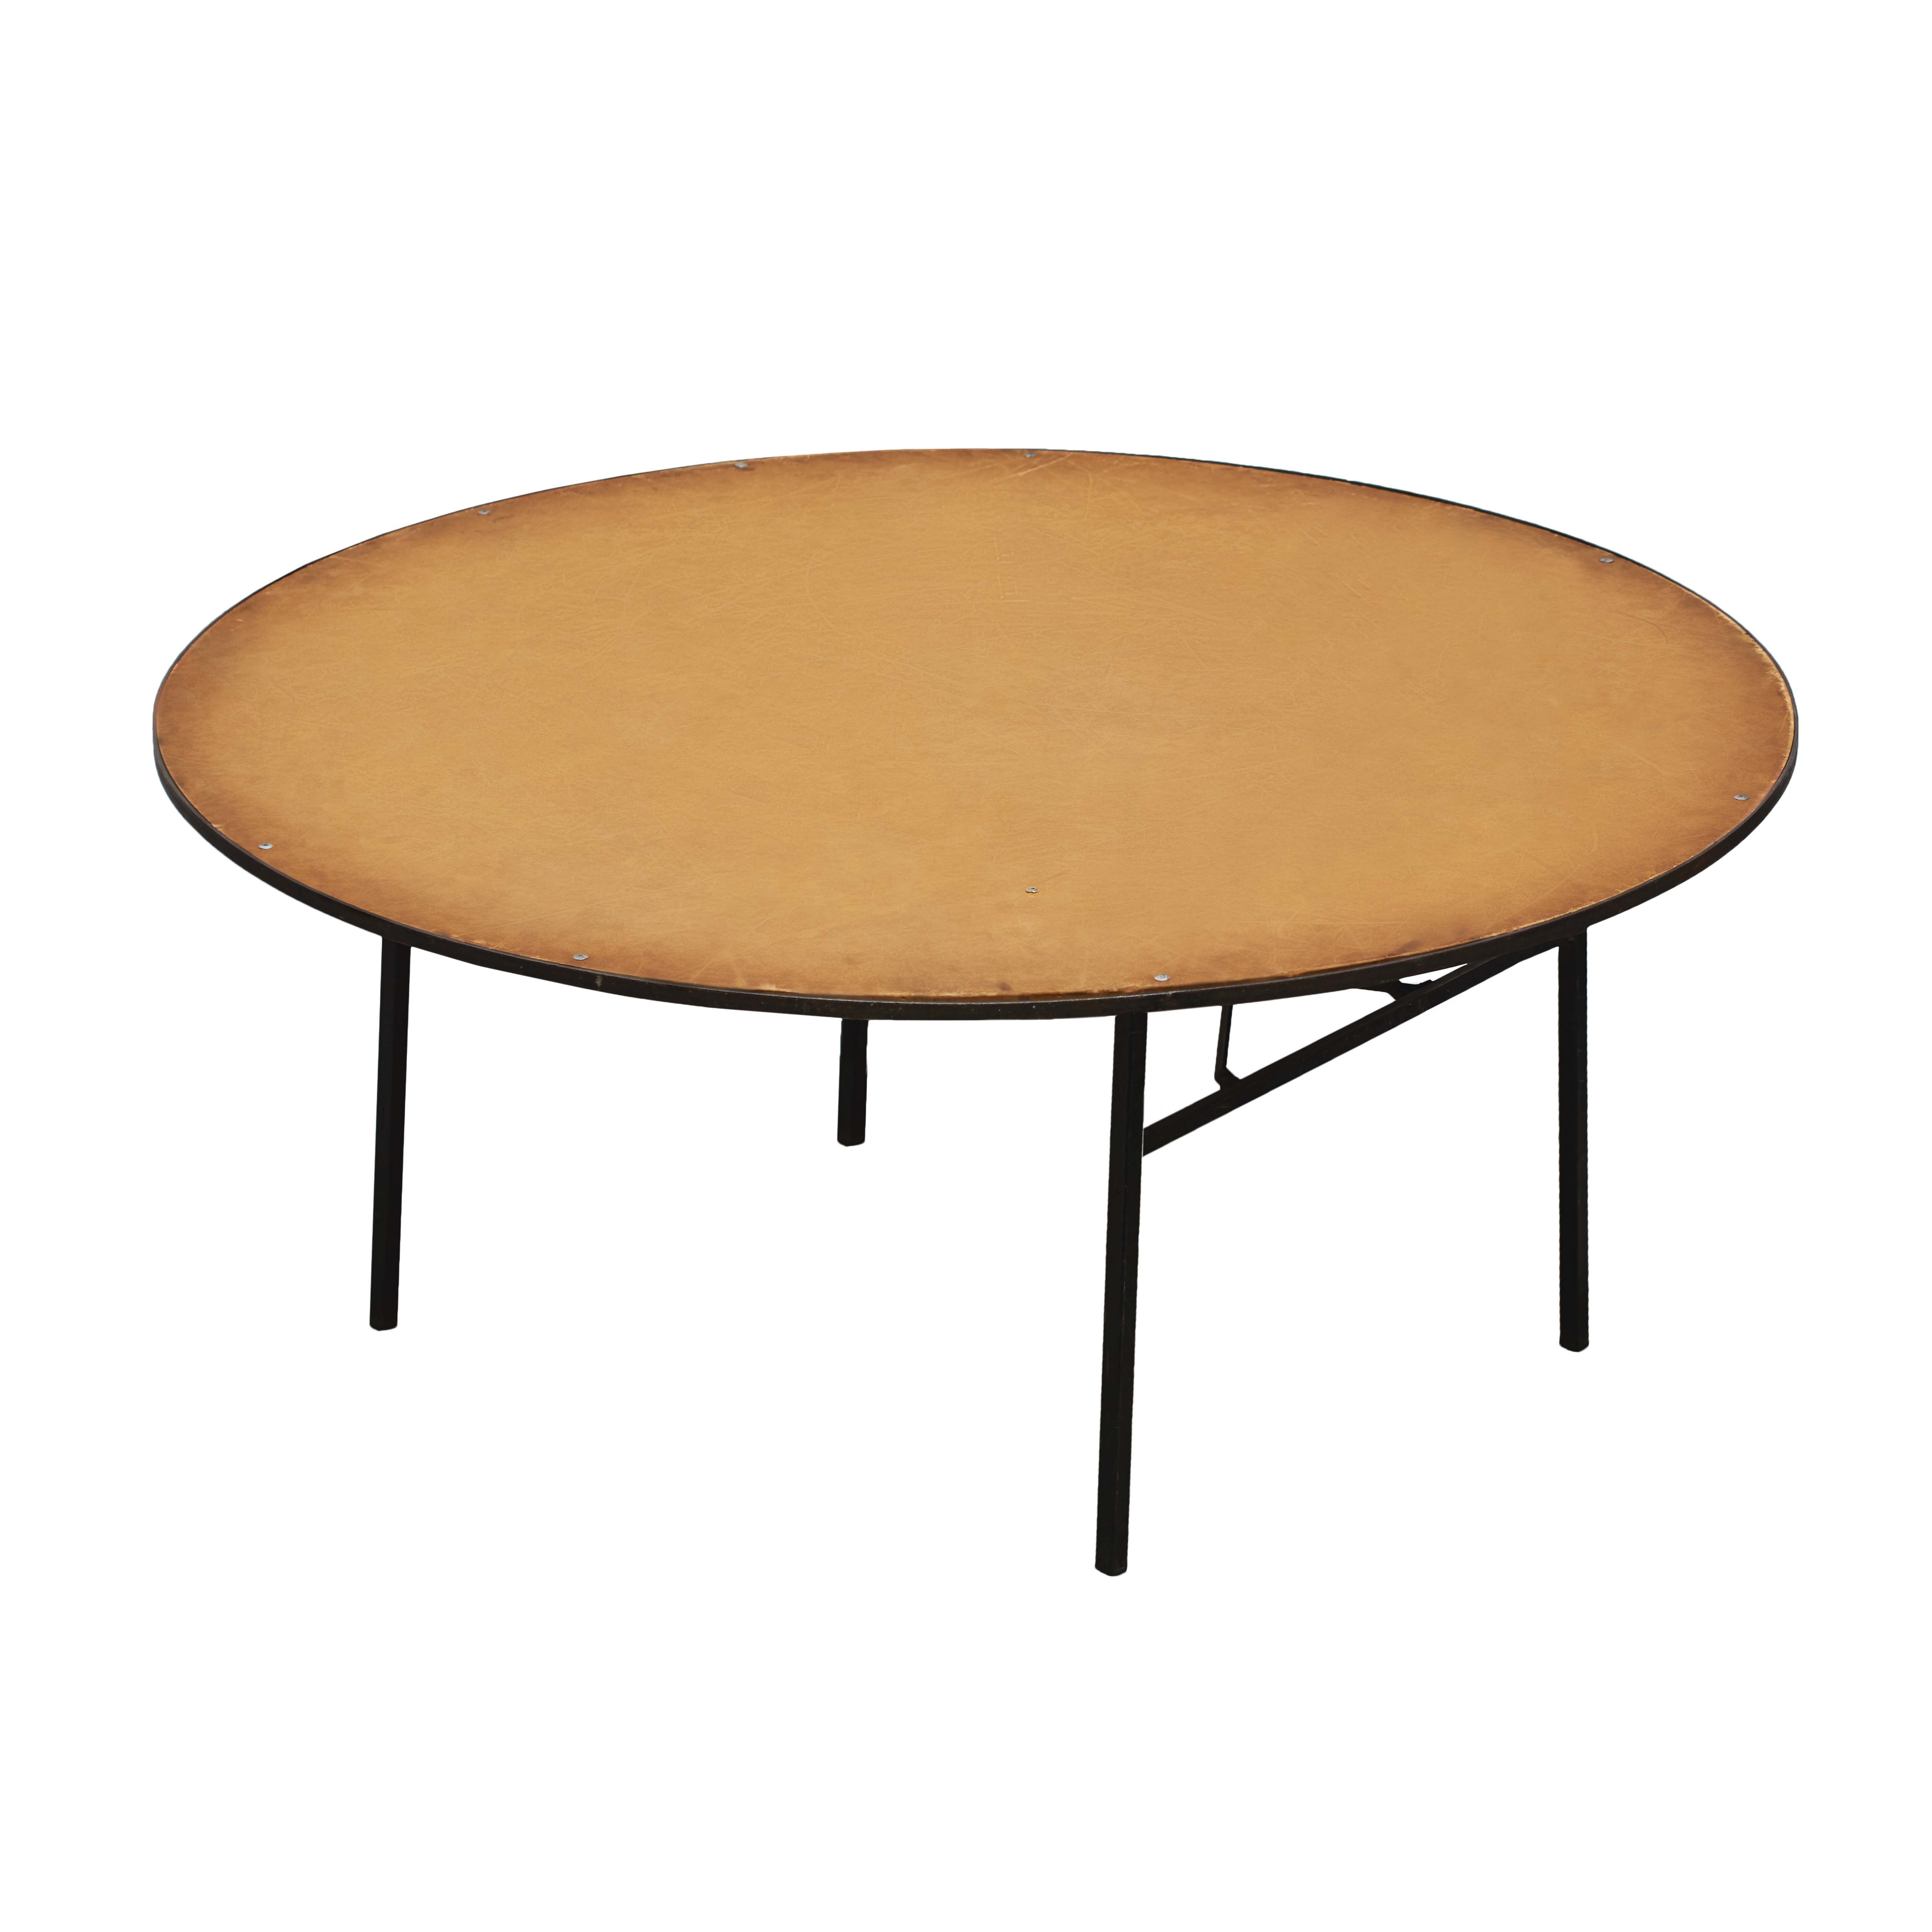meja: (145, 444, 1803, 1576)
